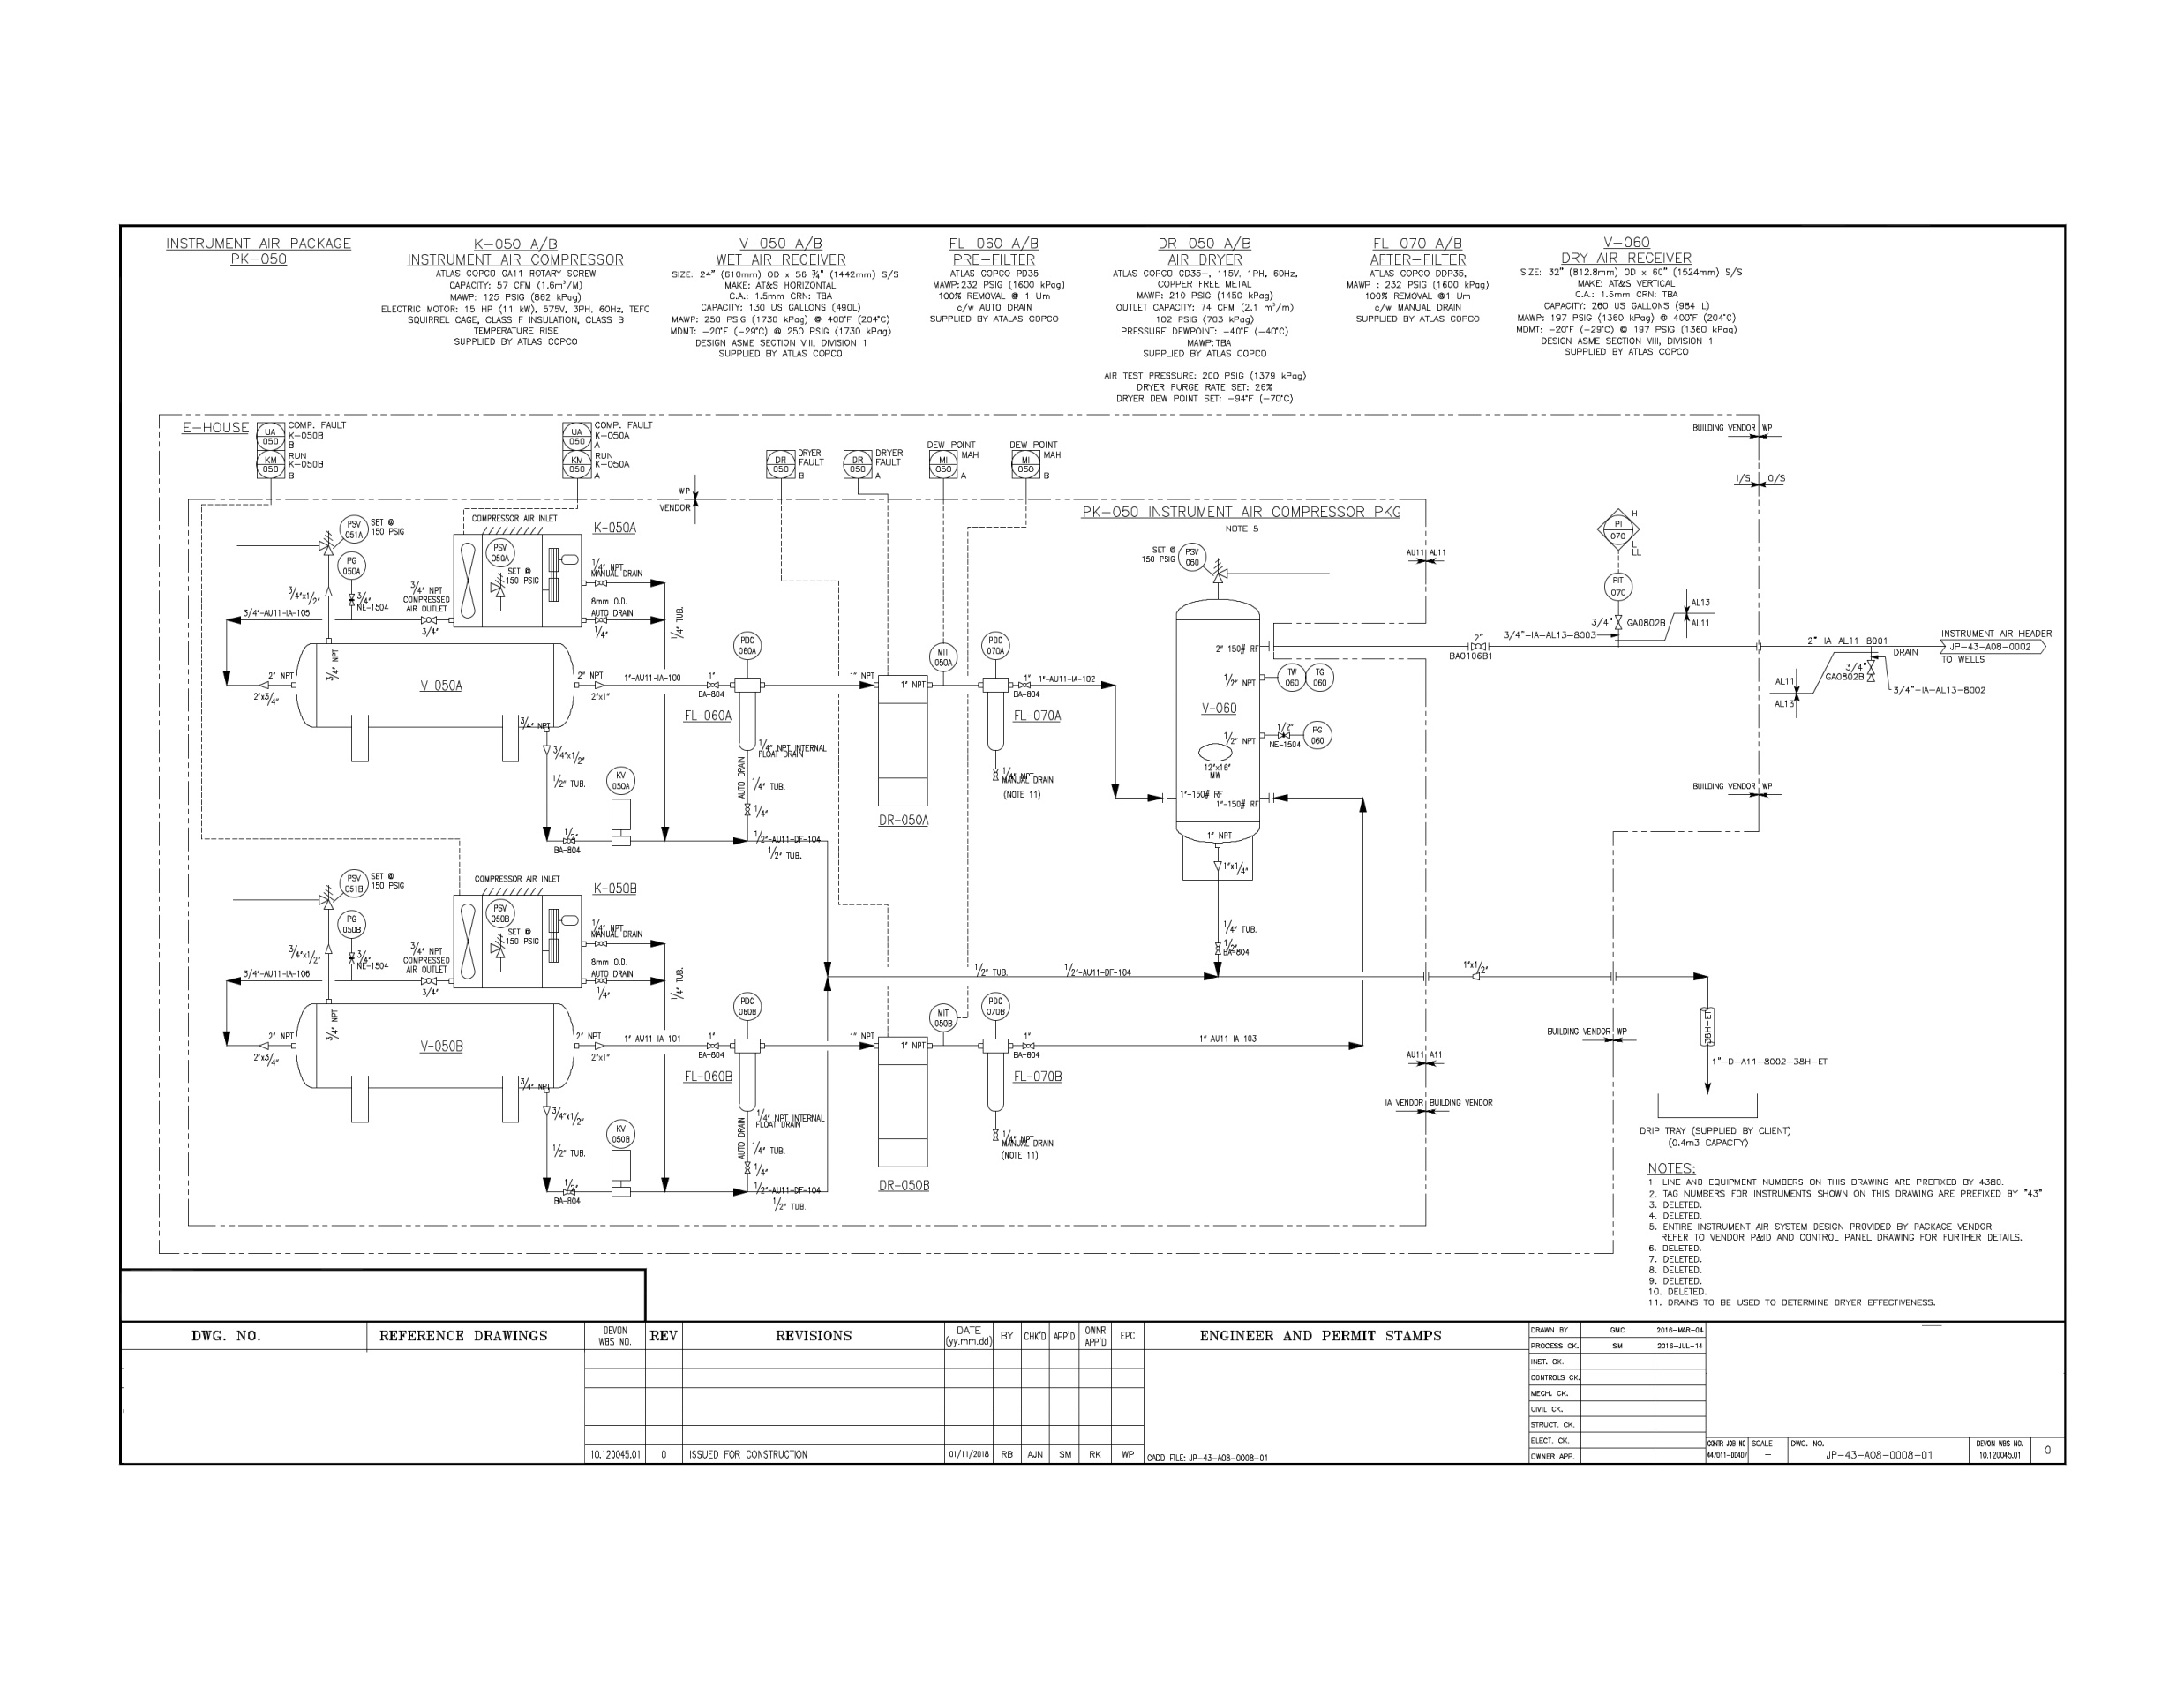Inlinel Instrument: (732, 629, 764, 665), (339, 867, 370, 903), (732, 989, 764, 1025), (1305, 661, 1337, 697), (927, 1002, 959, 1037), (604, 762, 636, 798), (1603, 569, 1634, 605), (604, 1115, 636, 1149), (339, 512, 369, 548), (337, 550, 367, 585), (929, 638, 959, 674), (980, 628, 1010, 663), (1177, 541, 1207, 576), (1303, 718, 1333, 754), (980, 989, 1010, 1025), (337, 908, 367, 942)
Panel Instrument: (840, 447, 876, 482), (1009, 447, 1044, 482), (253, 417, 289, 452), (252, 449, 287, 484), (560, 417, 596, 452), (764, 445, 798, 481), (927, 447, 961, 482)
